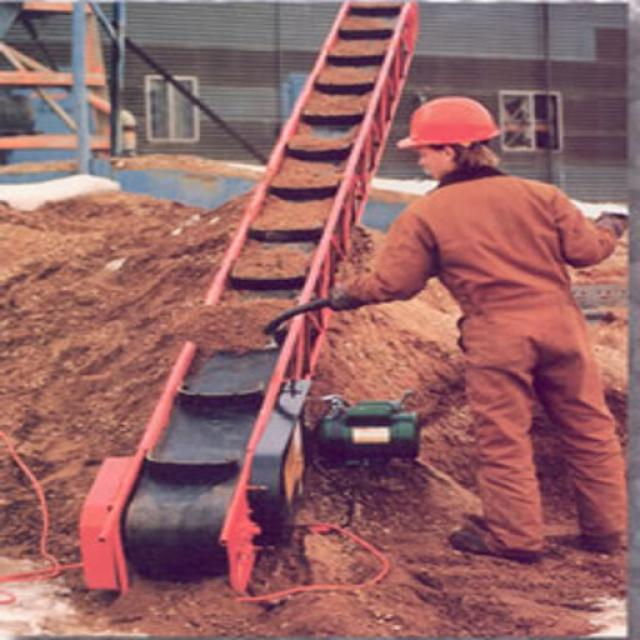conveyor: (76, 0, 425, 600)
